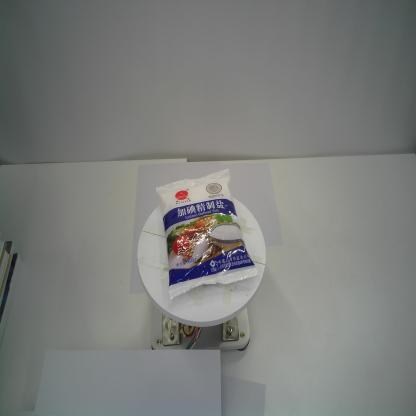Seasoner: (154, 167, 259, 302)
